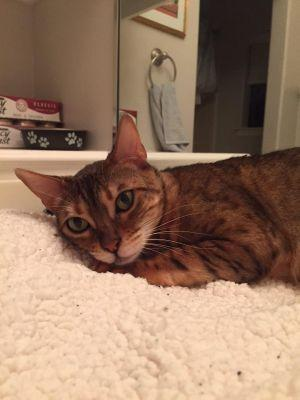bengal: (23, 113, 173, 278)
